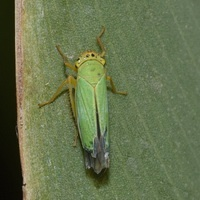insect: (38, 26, 127, 173)
